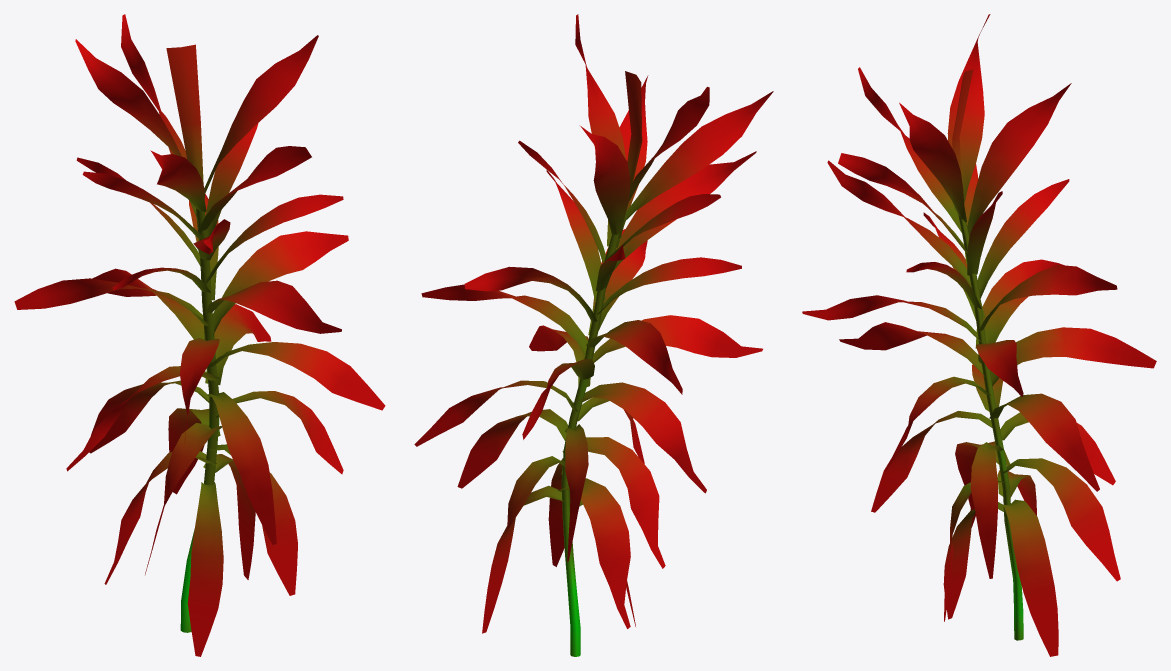
Rendered from Dragon Tree_LOD0_Var4_siumT.fbx.
3 views of the same model, side by side, from view 1: azimuth 30°, elevation 25°; view 2: azimuth 150°, elevation 25°; view 3: azimuth 270°, elevation 25° (orthographic). The views are drawn at different scales.
Parts seen in each view (by area): view 1: _ef78_Var4_LOD0; view 2: _ef78_Var4_LOD0; view 3: _ef78_Var4_LOD0.
Part boxes in pixels (x1,y1,x2,y2): _ef78_Var4_LOD0: (14,14,385,656); _ef78_Var4_LOD0: (414,14,773,656); _ef78_Var4_LOD0: (802,14,1156,656).
Size of the model in its own units: 44.48 by 87.43 by 49.4.
